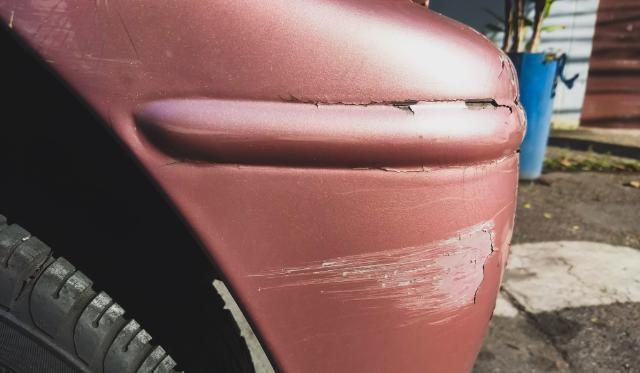scratch: (247, 217, 499, 327)
